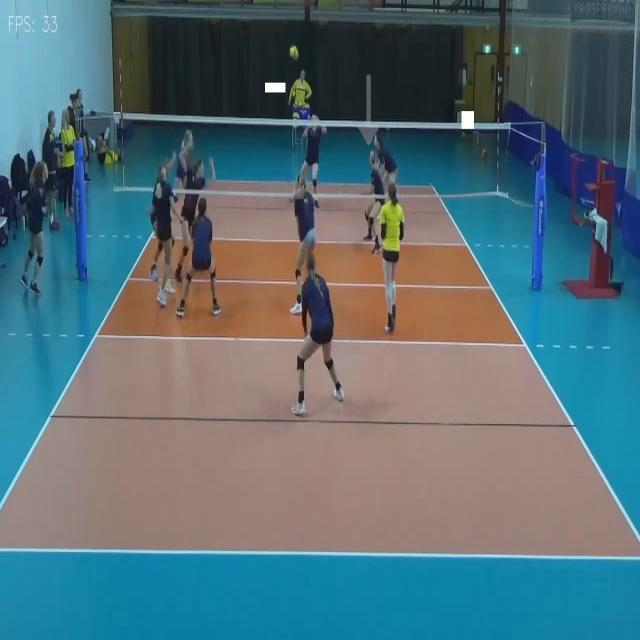volleyball: (286, 44, 300, 61)
